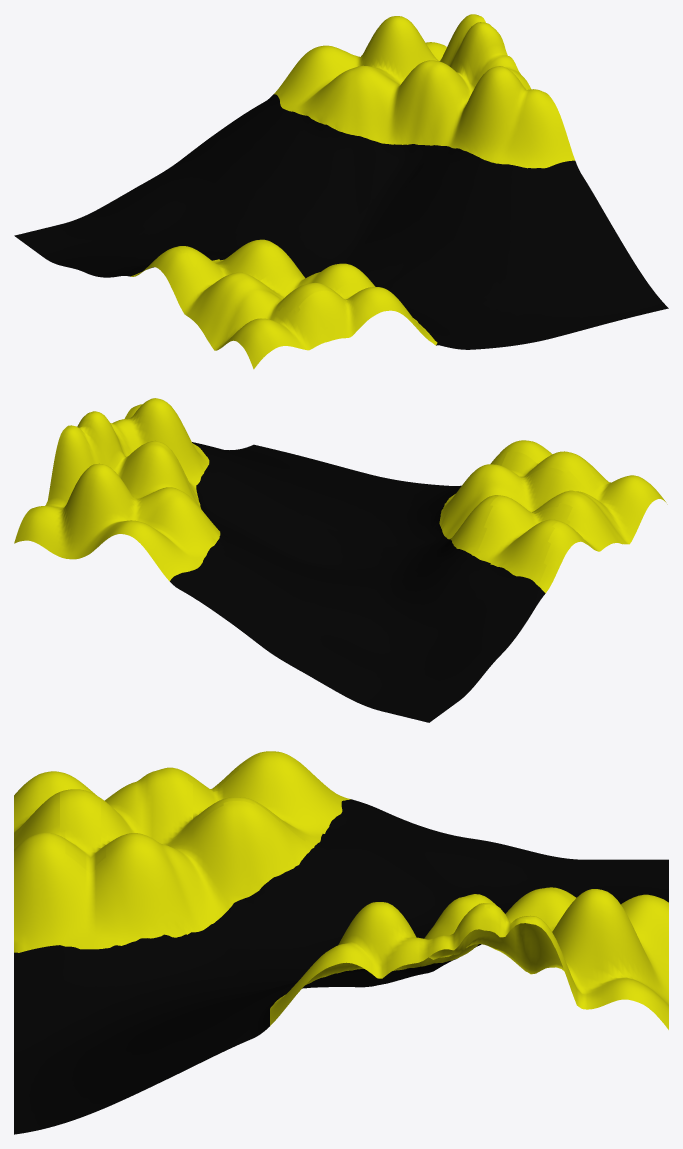
The model's file is M_Terrain1.fbx.
3 views of the same model, one above another, from view 1: azimuth 30°, elevation 25°; view 2: azimuth 150°, elevation 25°; view 3: azimuth 270°, elevation 25° (orthographic). The views are drawn at different scales.
Parts seen in each view (by area): view 1: M_Terrain2; view 2: M_Terrain2; view 3: M_Terrain2.
Boxes of the visible parts, x1=… form: M_Terrain2: x1=14, y1=14, x2=668, y2=369; M_Terrain2: x1=14, y1=398, x2=667, y2=722; M_Terrain2: x1=14, y1=751, x2=668, y2=1134.
Size of the model in its own units: 1006 by 378 by 1006.
